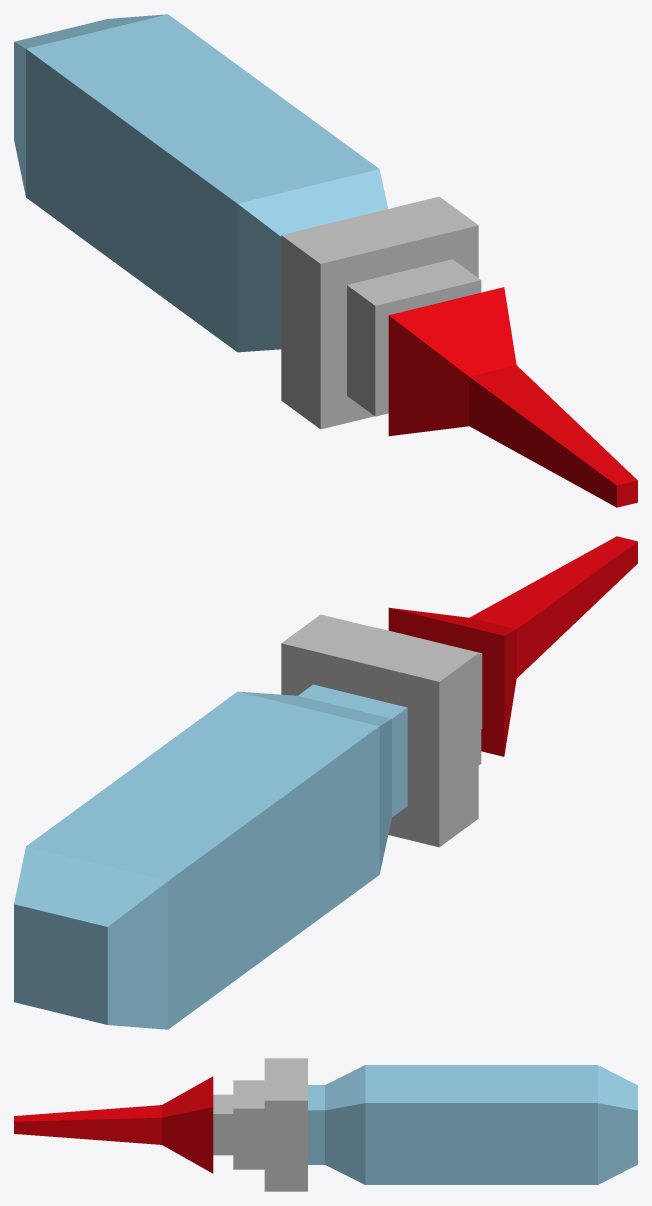
The model's file is injector.fbx.
3 renders of one model, top to bottom at view 1: azimuth 30°, elevation 25°; view 2: azimuth 150°, elevation 25°; view 3: azimuth 270°, elevation 25°, orthographic. The views are drawn at different scales.
Visible parts, largest first — view 1: Cube; view 2: Cube; view 3: Cube.
Boxes of the visible parts, x1,y1,x2,y2 form: Cube: [14, 14, 637, 507]; Cube: [14, 536, 637, 1029]; Cube: [14, 1058, 637, 1191].
Bounding box in the file's own units: 171 × 171 × 1059.
